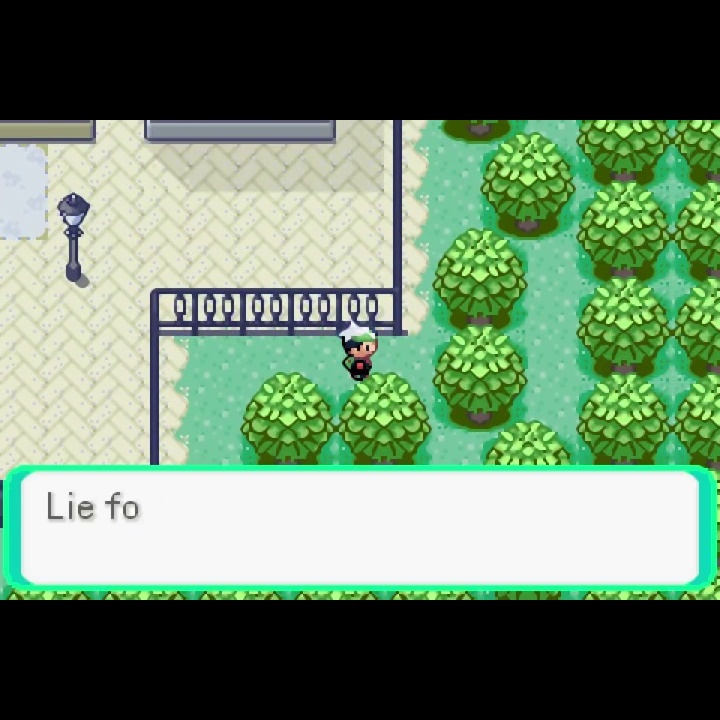npc: (338, 319, 380, 384)
wall: (480, 132, 576, 239), (576, 276, 674, 377), (432, 228, 527, 331), (434, 329, 529, 432), (238, 372, 337, 465), (578, 182, 673, 276), (574, 376, 674, 465), (337, 373, 431, 465), (575, 120, 672, 182), (673, 275, 720, 375), (672, 181, 720, 277), (477, 420, 573, 465), (672, 375, 720, 465), (673, 119, 720, 183), (439, 121, 523, 146)
